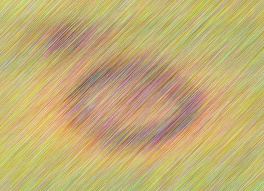Bacterial_Leaf_Blight: (23, 34, 238, 166), (31, 14, 105, 55)
